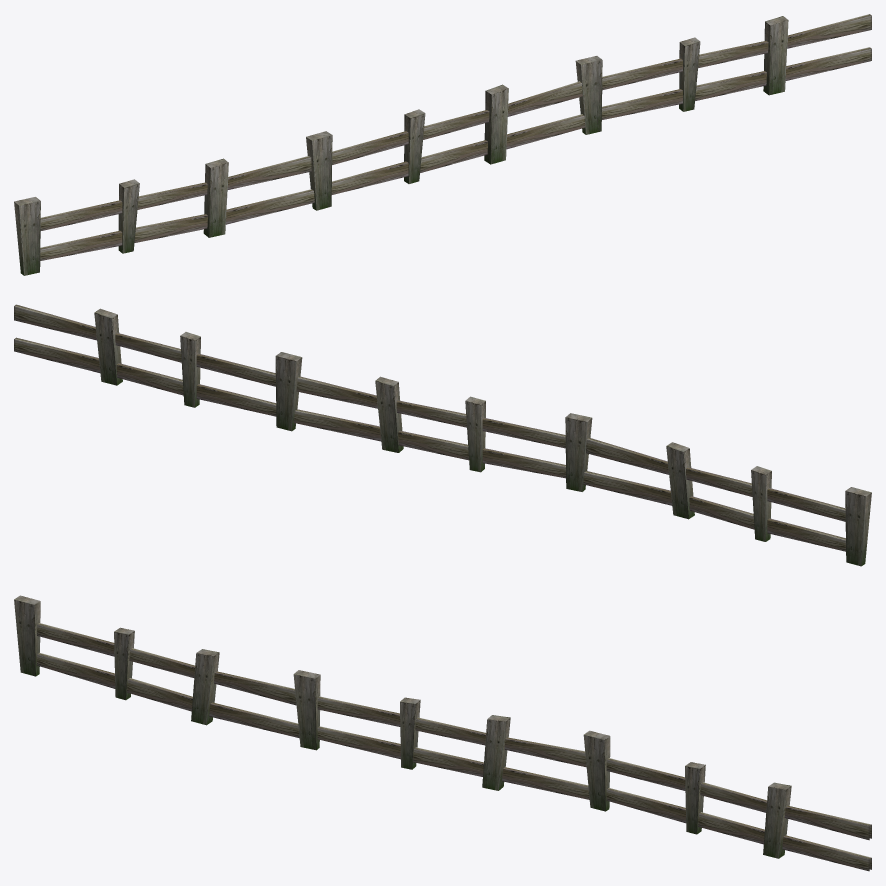
The model's file is woodfence_60.fbx.
The picture shows the model from 3 angles, top to bottom: view 1: azimuth 30°, elevation 25°; view 2: azimuth 150°, elevation 25°; view 3: azimuth 330°, elevation 25°; orthographic projection.
Parts seen in each view (by area): view 1: polySurface7, post_high; view 2: polySurface7, post_high; view 3: polySurface7, post_high.
Boxes of the visible parts, <box> form: polySurface7: <box>40,14,871,260</box>; post_high: <box>14,16,788,275</box>; polySurface7: <box>14,304,845,551</box>; post_high: <box>94,308,871,566</box>; polySurface7: <box>37,623,871,871</box>; post_high: <box>14,595,791,858</box>.
Bounding box in the file's own units: 6104 × 494 × 201.
1 material, 1 textured.
